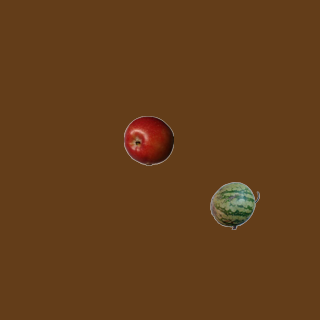Apple Braeburn: (123, 115, 173, 165)
Watermelon: (209, 180, 259, 230)
